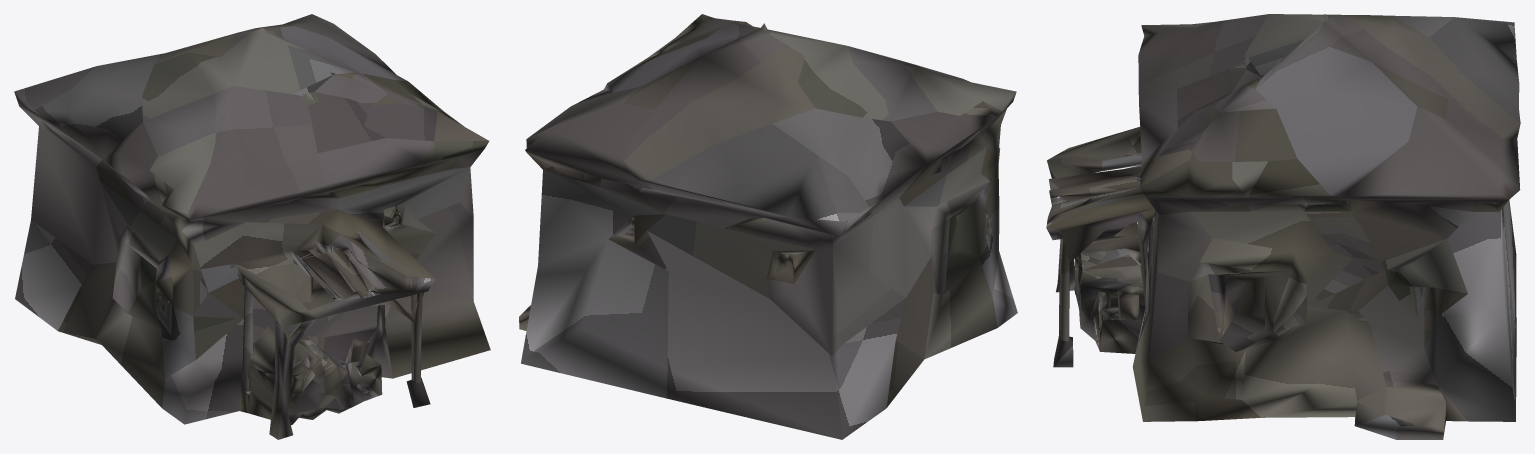
The model's file is house_cottage_2_lo.glb.
3 renders of one model, left to right at view 1: azimuth 30°, elevation 25°; view 2: azimuth 150°, elevation 25°; view 3: azimuth 270°, elevation 25°, orthographic. The views are drawn at different scales.
Visible parts, largest first — view 1: tripo_node_f4536328-5a8a-4b85-a494-a01f031eb54b; view 2: tripo_node_f4536328-5a8a-4b85-a494-a01f031eb54b; view 3: tripo_node_f4536328-5a8a-4b85-a494-a01f031eb54b.
Boxes of the visible parts, <box> form: tripo_node_f4536328-5a8a-4b85-a494-a01f031eb54b: <box>14,14,490,439</box>; tripo_node_f4536328-5a8a-4b85-a494-a01f031eb54b: <box>519,14,1017,439</box>; tripo_node_f4536328-5a8a-4b85-a494-a01f031eb54b: <box>1046,14,1520,439</box>.
Bounding box in the file's own units: 0.9136 × 0.7483 × 0.9761.
1 material, 1 textured.
